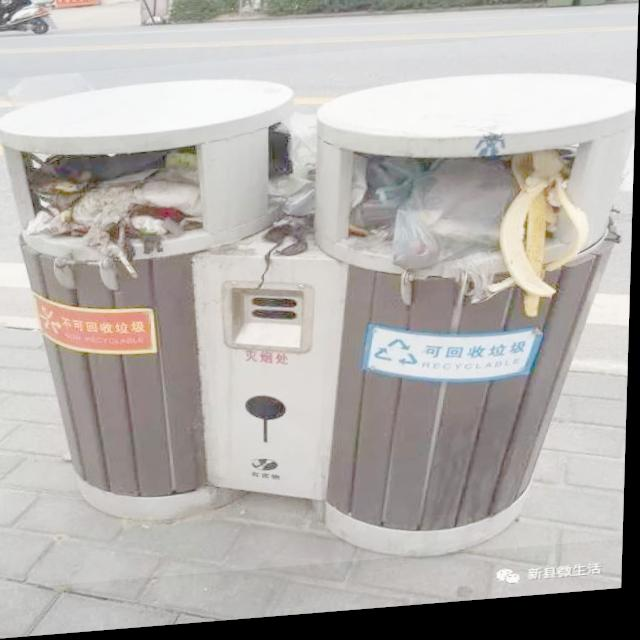overflow: (0, 39, 637, 591)
